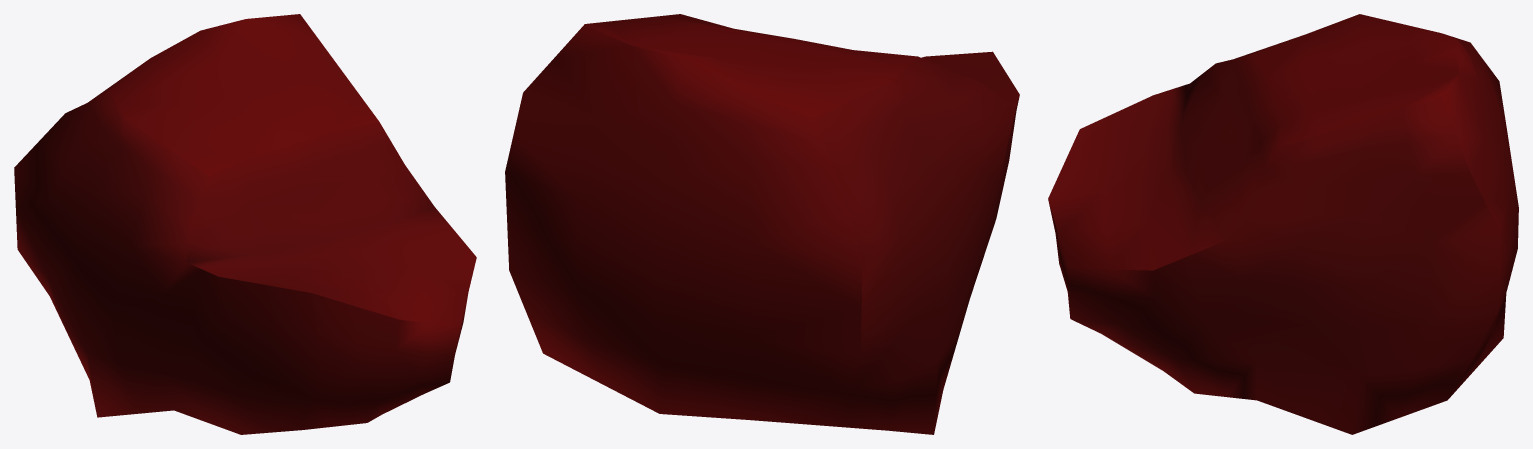
Rendered from geology-pebbles-coloredpebble_v5.fbx.
The picture shows the model from 3 angles, left to right: view 1: azimuth 30°, elevation 25°; view 2: azimuth 150°, elevation 25°; view 3: azimuth 270°, elevation 25°; orthographic projection. The views are drawn at different scales.
Visible parts, largest first — view 1: ColoredPebble_v5; view 2: ColoredPebble_v5; view 3: ColoredPebble_v5.
Boxes of the visible parts, x1,y1,x2,y2 form: ColoredPebble_v5: (14,14,476,434); ColoredPebble_v5: (505,14,1019,434); ColoredPebble_v5: (1048,14,1518,434).
Size of the model in its own units: 8.68 by 8.3 by 10.98.
